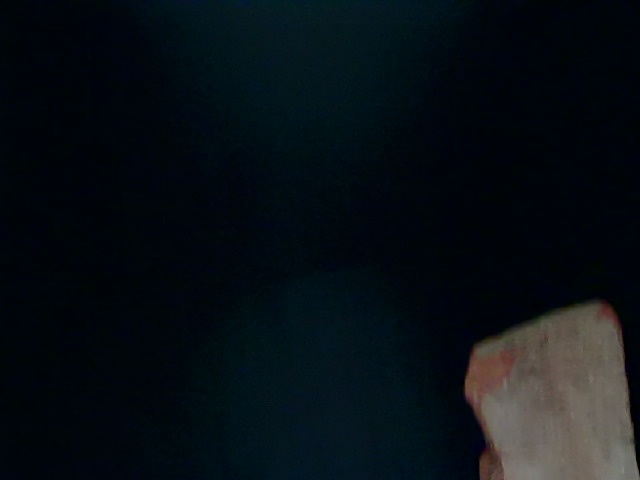KHSLJ: (155, 249, 468, 480)
